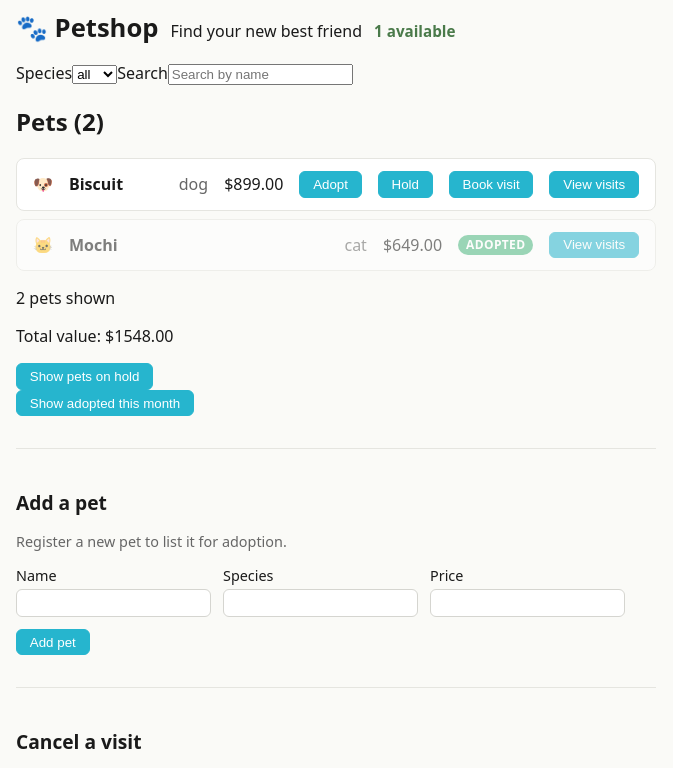
it: App › offers a Hold button on available pet cards and holds the pet
Expected: the text "Biscuit" is shown, [69, 173, 123, 195]
Click the button "Hold": point(405, 184) [378, 171, 433, 198]
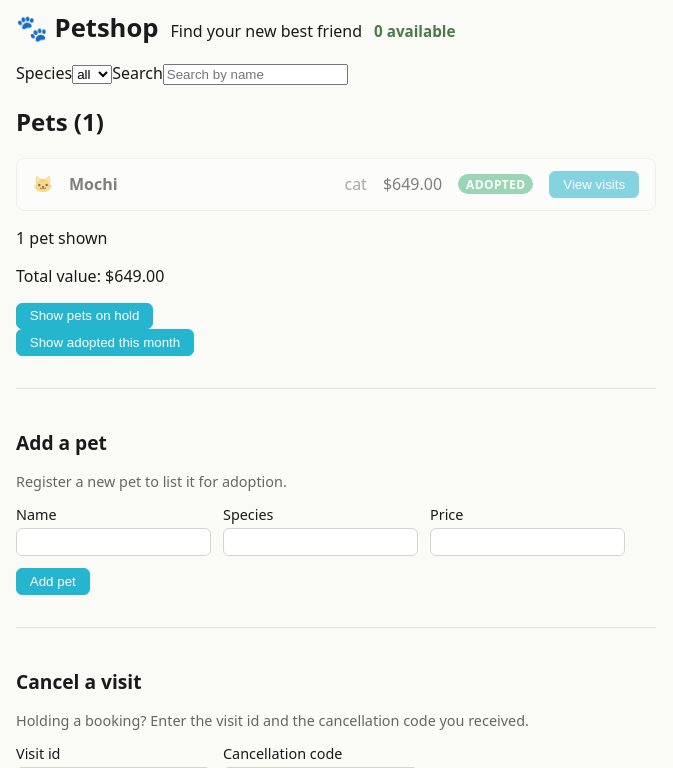
Now the text "Biscuit" is gone
